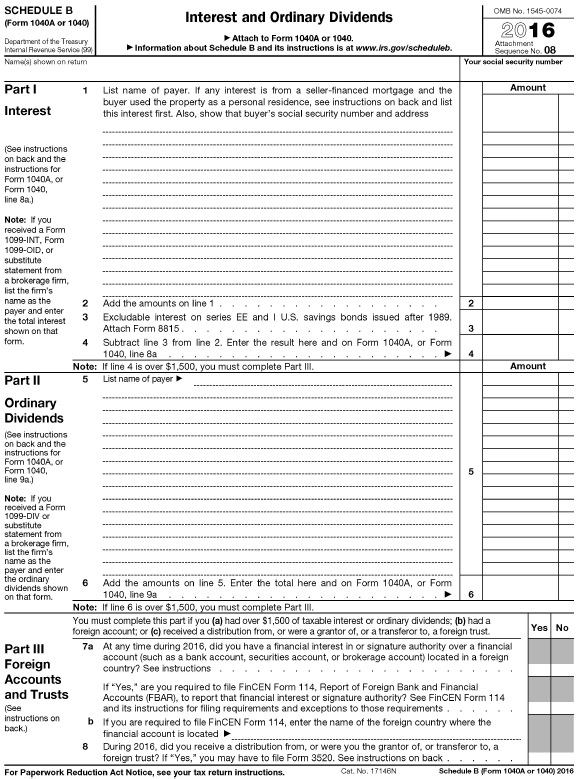textbox: (1, 52, 463, 85), (455, 53, 578, 84), (480, 91, 561, 134), (479, 571, 562, 603), (478, 305, 560, 337), (479, 331, 561, 363), (524, 711, 555, 767), (547, 712, 578, 768), (479, 129, 560, 149), (481, 141, 562, 161), (479, 153, 560, 173), (480, 165, 561, 185), (480, 178, 561, 198), (480, 191, 561, 211), (481, 204, 562, 224), (479, 216, 560, 236), (480, 229, 561, 249), (479, 242, 560, 262), (482, 254, 563, 274), (481, 267, 562, 287), (480, 457, 564, 476), (479, 470, 563, 489), (479, 483, 563, 502), (478, 495, 562, 514), (479, 508, 563, 527), (479, 521, 563, 540), (478, 534, 562, 553), (481, 547, 565, 566), (480, 559, 564, 578), (478, 293, 561, 312), (480, 369, 563, 388), (479, 381, 562, 400), (480, 394, 563, 413), (480, 407, 563, 426), (480, 432, 563, 451), (478, 417, 561, 436), (478, 445, 561, 464), (479, 280, 562, 297), (548, 636, 578, 679), (524, 636, 554, 679), (525, 674, 555, 717), (548, 674, 578, 717), (555, 90, 578, 134), (556, 331, 578, 364), (553, 572, 578, 601), (557, 306, 578, 336), (555, 293, 578, 312), (555, 280, 578, 299), (555, 268, 578, 287), (555, 255, 578, 274), (555, 243, 578, 262), (555, 217, 578, 236), (555, 204, 578, 223), (555, 192, 578, 211), (555, 180, 578, 199), (555, 167, 578, 186), (555, 154, 578, 173), (555, 140, 578, 159), (555, 128, 578, 147), (555, 369, 578, 388), (555, 382, 578, 401), (555, 394, 578, 413), (555, 407, 578, 426), (555, 419, 578, 438), (555, 433, 578, 452), (555, 446, 578, 465), (555, 457, 578, 476), (555, 470, 578, 489), (555, 483, 578, 502), (555, 496, 578, 515), (555, 509, 578, 528), (555, 521, 578, 540), (555, 533, 578, 552), (555, 546, 578, 565), (555, 559, 578, 578)
textline: (100, 121, 455, 134), (100, 134, 455, 147), (100, 147, 455, 160), (100, 160, 455, 173), (100, 173, 455, 186), (100, 185, 455, 198), (99, 197, 454, 210), (100, 210, 455, 223), (100, 223, 455, 236), (100, 236, 455, 249), (100, 248, 455, 261), (100, 261, 455, 274), (100, 274, 455, 287), (101, 285, 456, 298), (100, 387, 455, 400), (101, 399, 456, 412), (101, 413, 456, 426), (100, 426, 455, 439), (100, 438, 455, 451), (101, 451, 456, 464), (100, 463, 455, 476), (101, 476, 456, 489), (99, 490, 454, 503), (100, 501, 455, 514), (101, 513, 456, 526), (101, 526, 456, 539), (100, 539, 455, 552), (100, 552, 455, 565), (100, 564, 455, 577), (230, 729, 526, 742)
